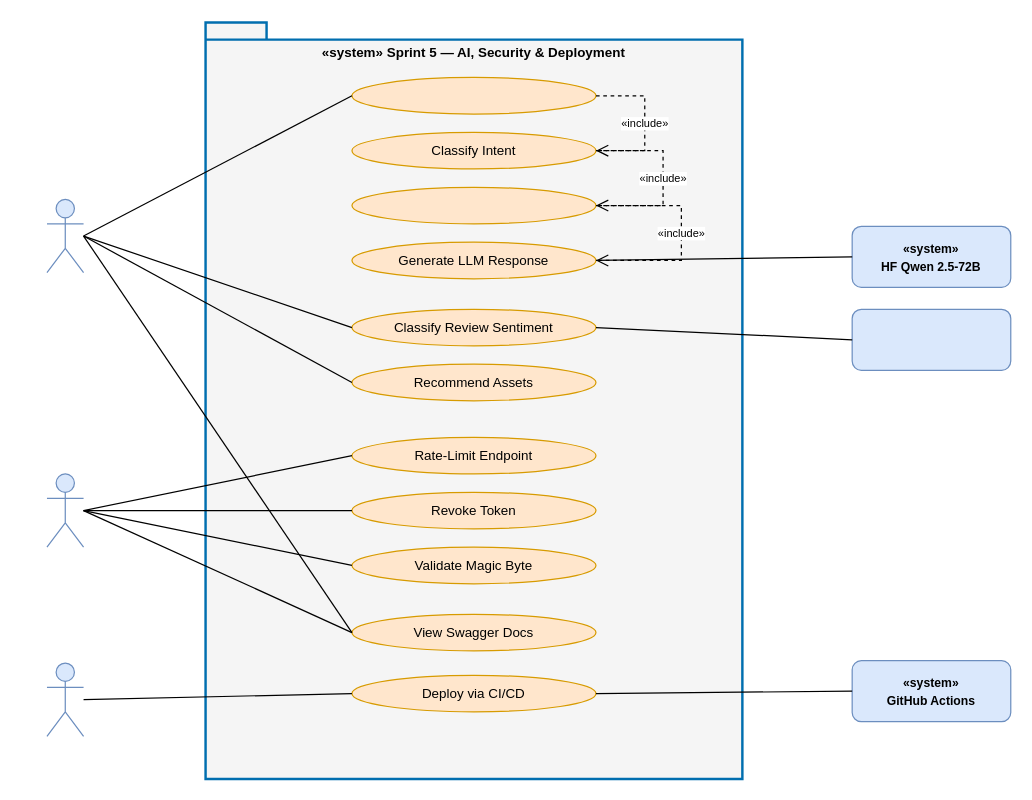
This 1032x800 diagram has some shape labels left out. Here are the shapes that lost their labels. From the top down, the centre of each, then its label:
the point at 473,95: Chat with AI Bot
the point at 473,205: Product Search Tool
the point at 65,235: User
the point at 931,339: «system» HF DistilBERT
the point at 65,510: Administrator
the point at 65,699: Maintainer
